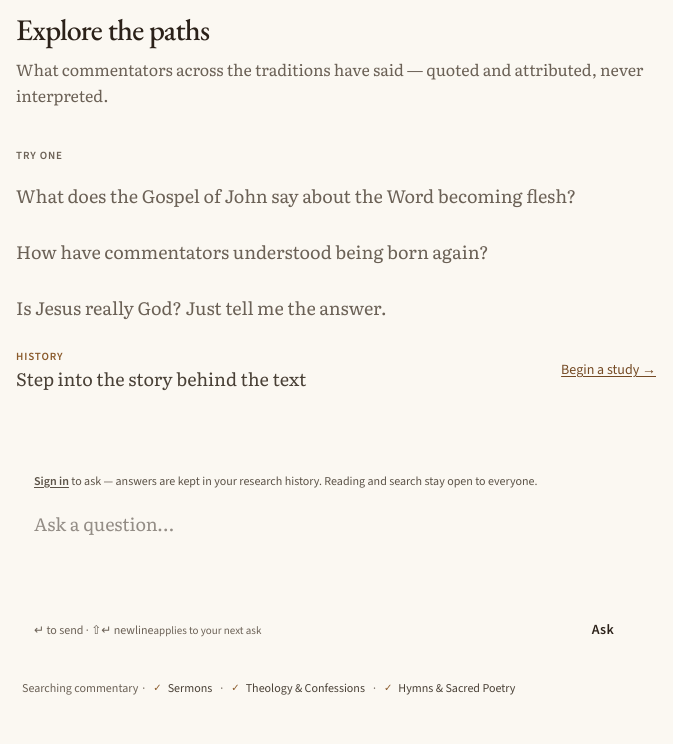
Scenario: A010 — a failed ask is replaced on retry, not duplicated › a retry from a COMPLETED answer still appends — it must not eat the answer
Type "Why does Job suffer?" into the text box with placeholder "Ask a question…" at (336,552), box [28, 507, 644, 597]
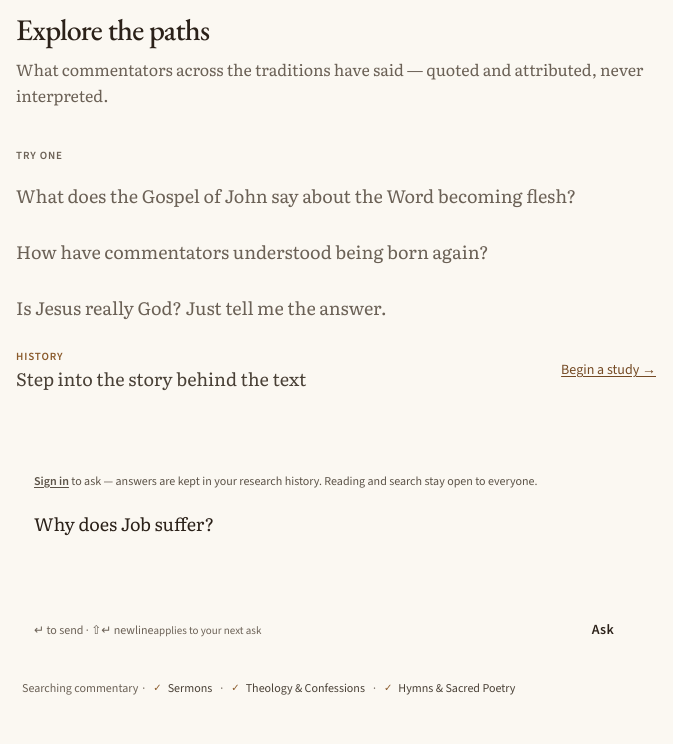
Submit the form with placeholder "Ask a question", box [16, 460, 656, 712]
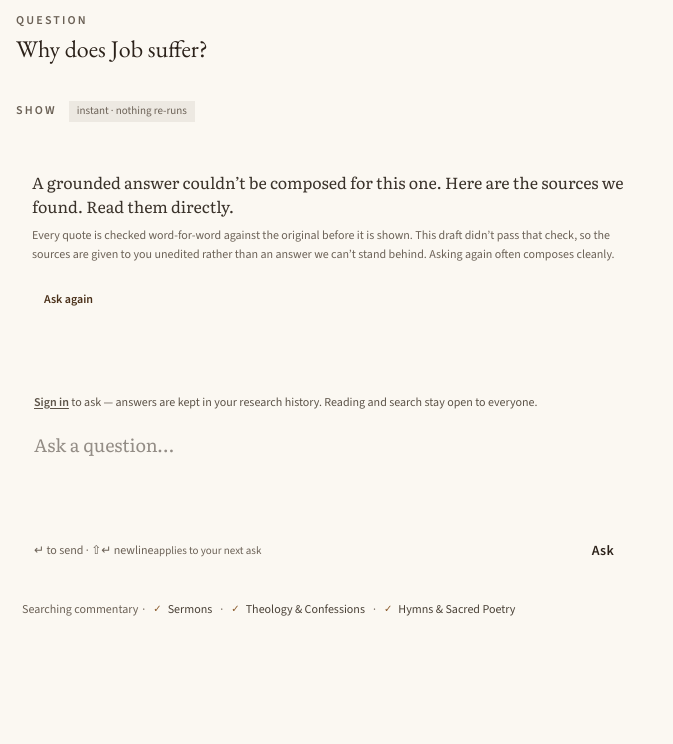
Check: the text "A grounded answer couldn" is shown, box [32, 170, 624, 218]
Click the button "Ask again" at (68,298), box [32, 276, 105, 320]
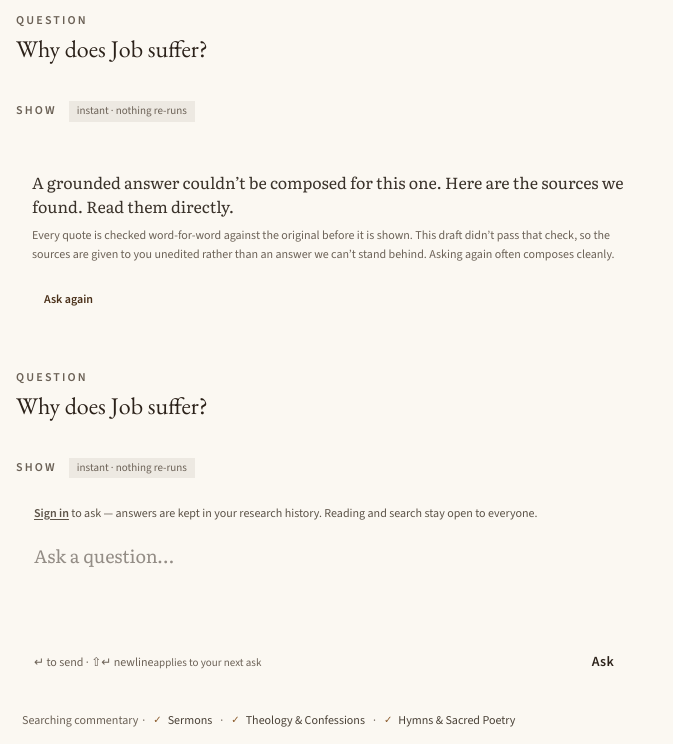
Check: the text "Why does Job suffer?" is shown 2 times, box [16, 33, 208, 64]; [16, 390, 208, 420]
